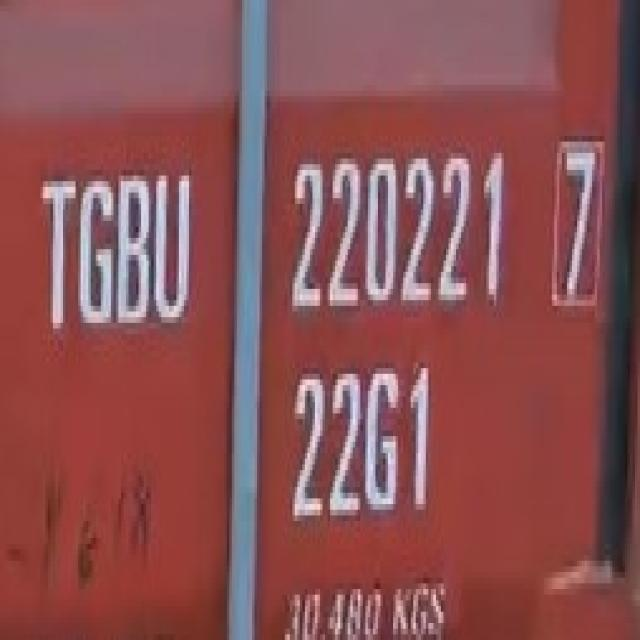dv: (542, 122, 607, 324)
owner: (29, 134, 201, 353)
serial: (276, 146, 518, 320)
size: (270, 344, 451, 544)
